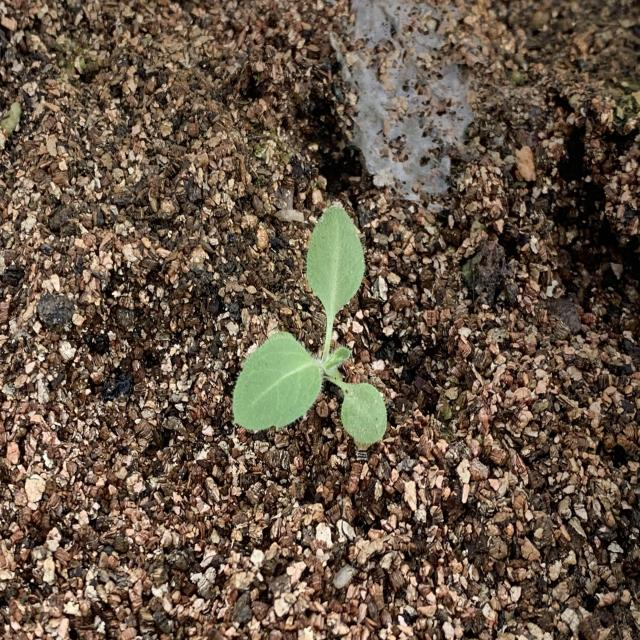horseweed: (210, 192, 418, 456)
